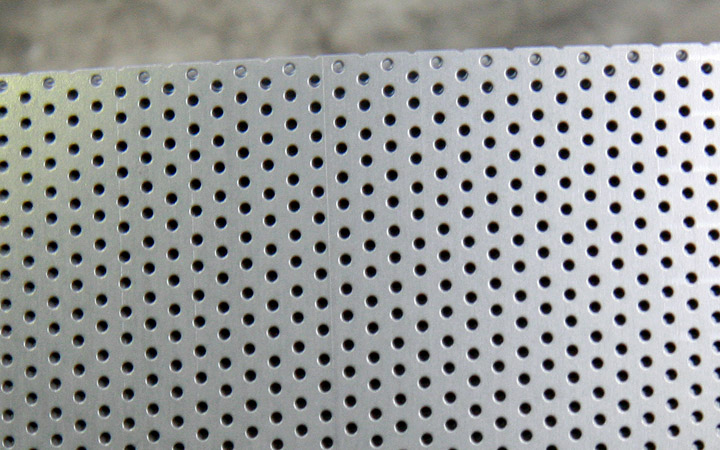Hole: (340, 390, 362, 413), (339, 418, 361, 438), (366, 404, 386, 424), (415, 403, 437, 421), (120, 413, 139, 433), (242, 396, 262, 415), (95, 401, 113, 422), (293, 419, 311, 440), (169, 411, 186, 433), (564, 367, 583, 386), (465, 370, 484, 389), (415, 372, 434, 391), (72, 415, 90, 435), (144, 399, 162, 419), (291, 394, 311, 412), (242, 423, 263, 440), (47, 404, 65, 423), (193, 398, 212, 416), (218, 410, 236, 429), (392, 417, 410, 436), (318, 406, 335, 426), (491, 414, 511, 431), (24, 419, 42, 437), (267, 408, 285, 426), (491, 386, 509, 404), (517, 400, 535, 418), (366, 375, 384, 393), (120, 385, 138, 403), (23, 389, 41, 407), (392, 390, 409, 409), (443, 415, 460, 434), (441, 388, 458, 407), (316, 377, 335, 394), (266, 379, 285, 396), (565, 398, 585, 414), (467, 401, 485, 418), (567, 425, 585, 442), (1, 377, 18, 395), (1, 405, 17, 424), (516, 370, 533, 387), (217, 381, 234, 398), (168, 383, 185, 400), (541, 386, 558, 402), (71, 387, 87, 404), (542, 413, 560, 428)
